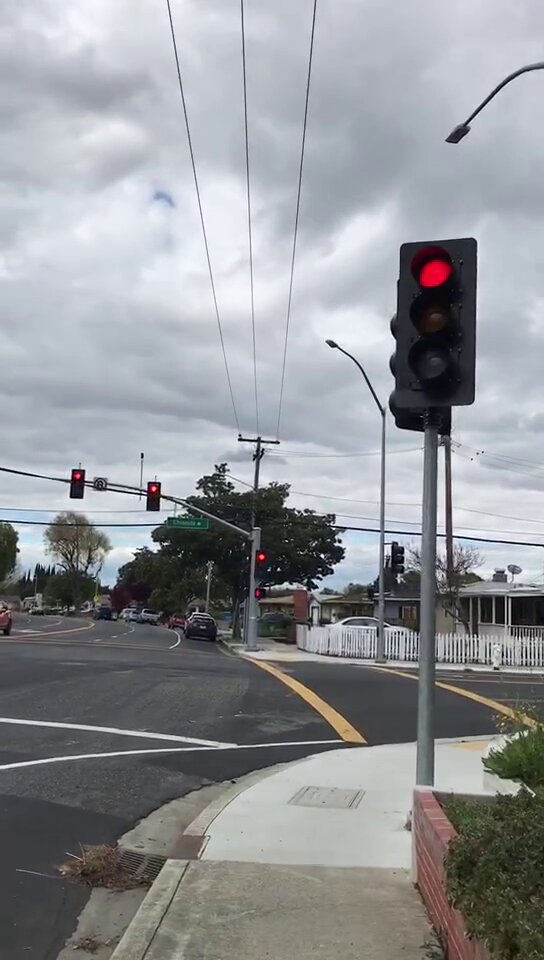red_light: (400, 244, 476, 405), (71, 467, 87, 498), (254, 550, 269, 581), (146, 483, 160, 509)
